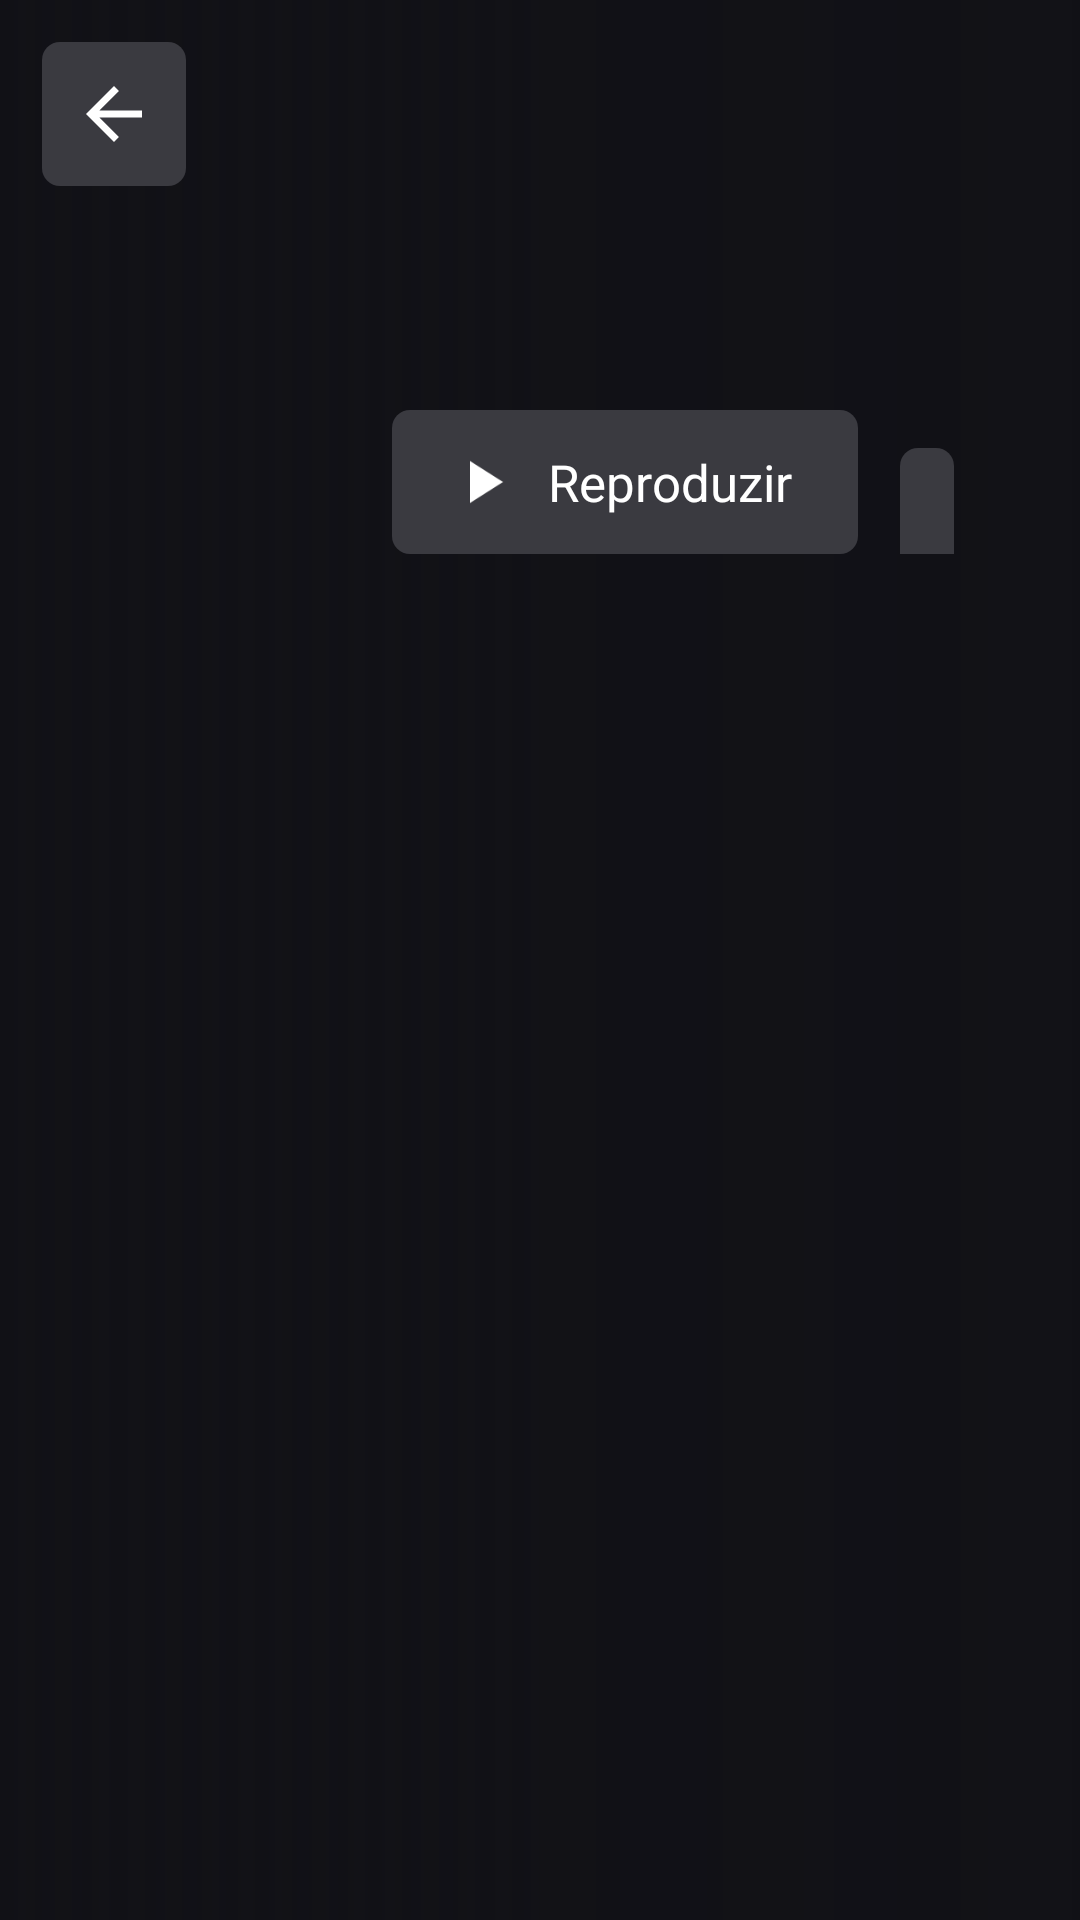

Icon click points for this 1080×1920 phone screenshot, format point (x, y):
back: point (114, 114)
